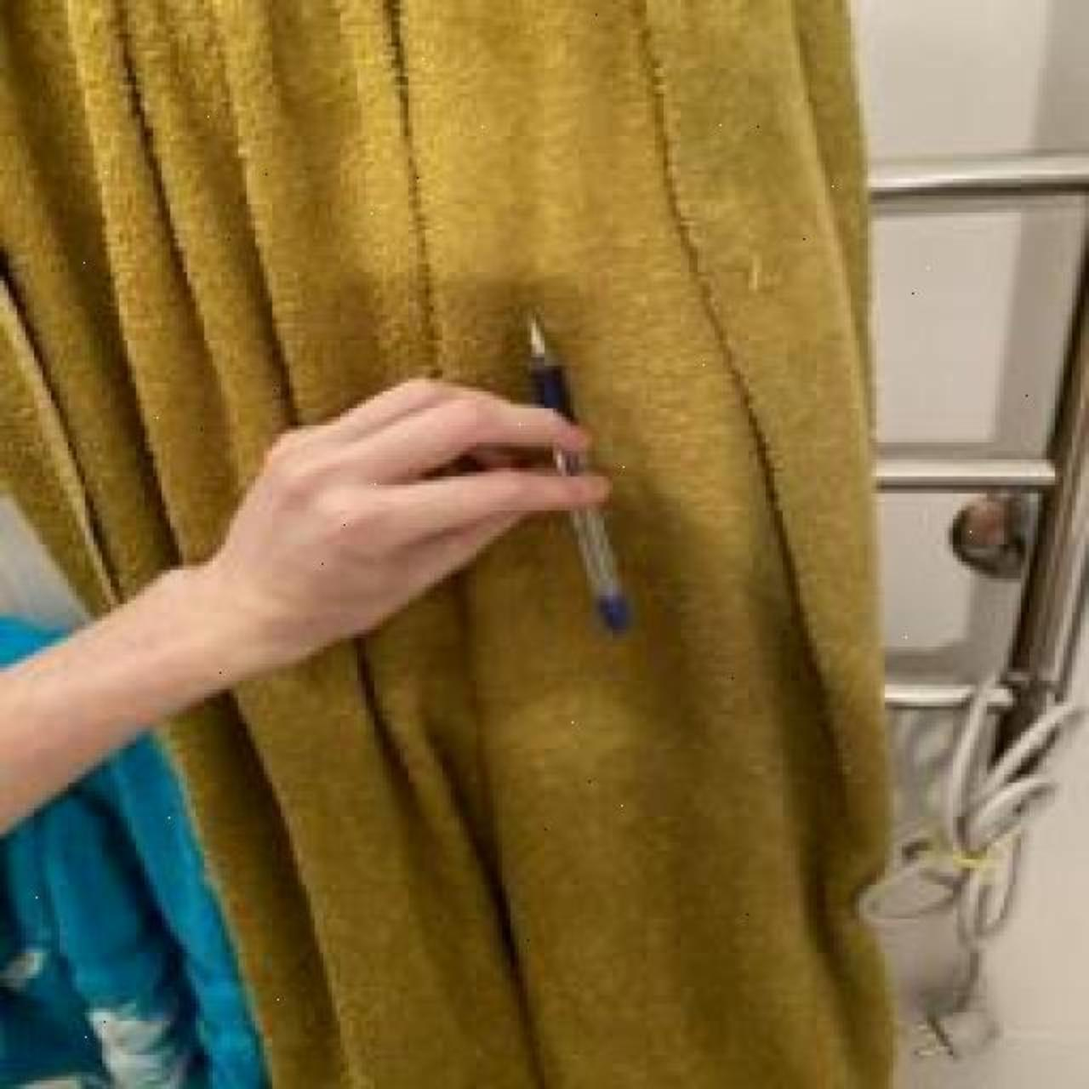pen: (519, 311, 630, 635)
